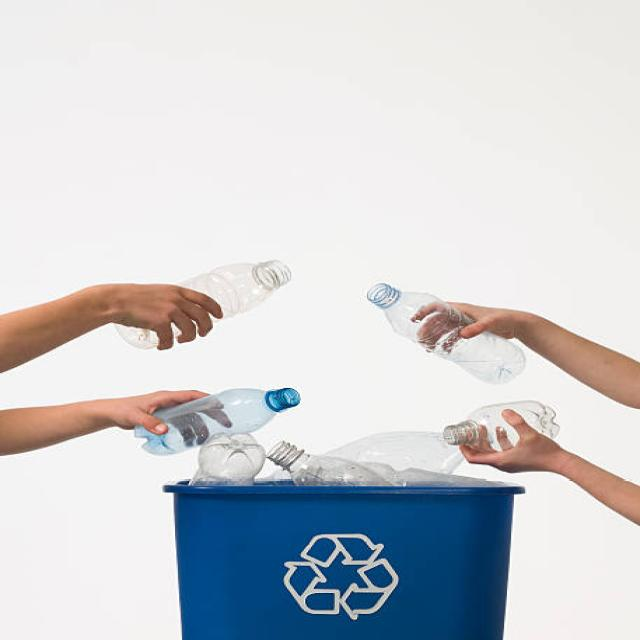plastic: (160, 256, 529, 488)
